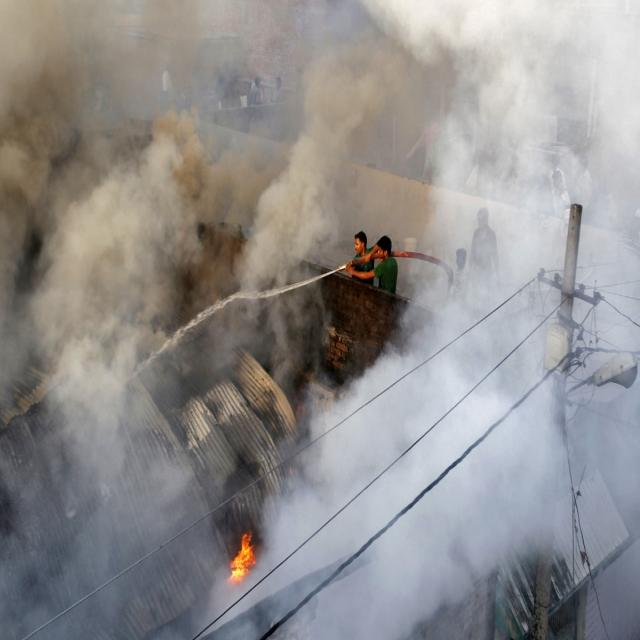smoke: (0, 5, 192, 640), (444, 8, 640, 559), (281, 368, 441, 640), (210, 66, 405, 245)
